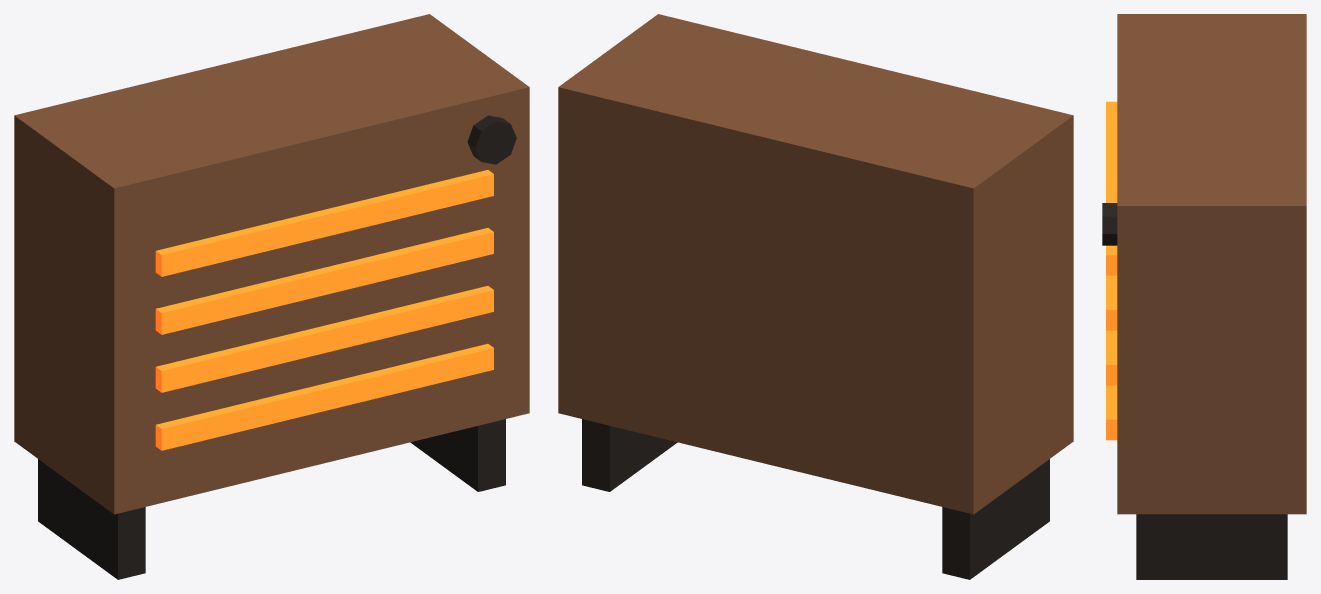
The model's file is cell_heater.glb.
3 views of the same model, side by side, from view 1: azimuth 30°, elevation 25°; view 2: azimuth 150°, elevation 25°; view 3: azimuth 270°, elevation 25° (orthographic). The views are drawn at different scales.
Visible parts, largest first — view 1: box_heater_rust, grille_heater_glow, legs_heater_dark, knob_heater_dark; view 2: box_heater_rust, legs_heater_dark; view 3: box_heater_rust, legs_heater_dark, grille_heater_glow, knob_heater_dark.
Boxes of the visible parts, x1,y1,x2,y2 form: box_heater_rust: (14, 14, 529, 514); grille_heater_glow: (155, 170, 493, 450); legs_heater_dark: (38, 419, 505, 579); knob_heater_dark: (467, 115, 516, 164); box_heater_rust: (558, 14, 1073, 514); legs_heater_dark: (582, 419, 1049, 579); box_heater_rust: (1117, 14, 1306, 514); legs_heater_dark: (1136, 514, 1287, 579); grille_heater_glow: (1106, 101, 1117, 440); knob_heater_dark: (1102, 203, 1117, 245).
Bounding box in the file's own units: 0.6 × 0.555 × 0.27.
